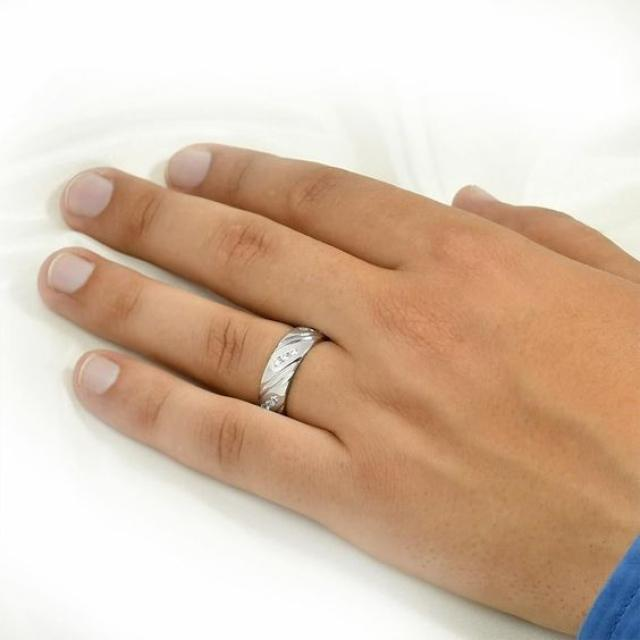Fingernail: (66, 173, 113, 217), (49, 251, 94, 295), (79, 355, 118, 395), (169, 151, 209, 187)
